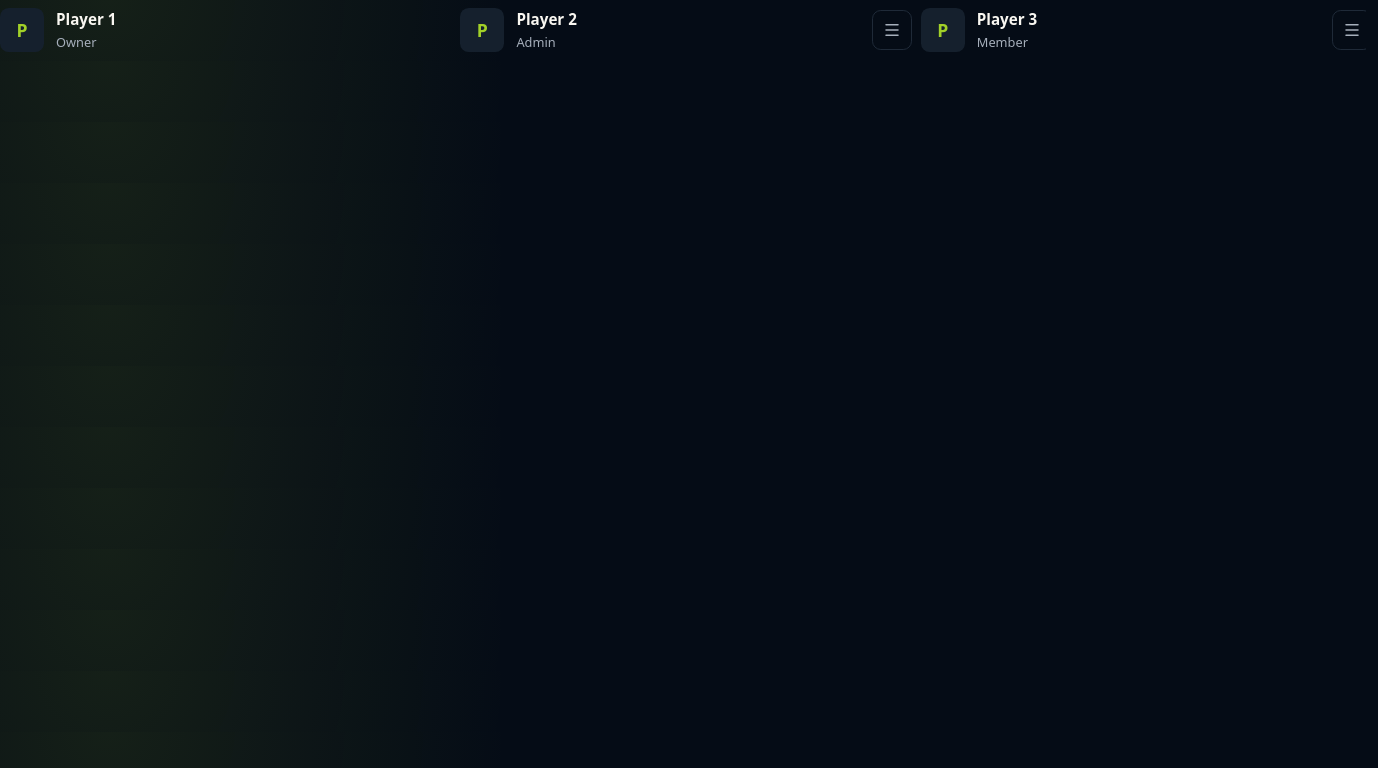
member menu › lets an owner make a member an admin
Click the button named "Options for Player 3". click: (1349, 30)
box: [1332,10,1366,50]
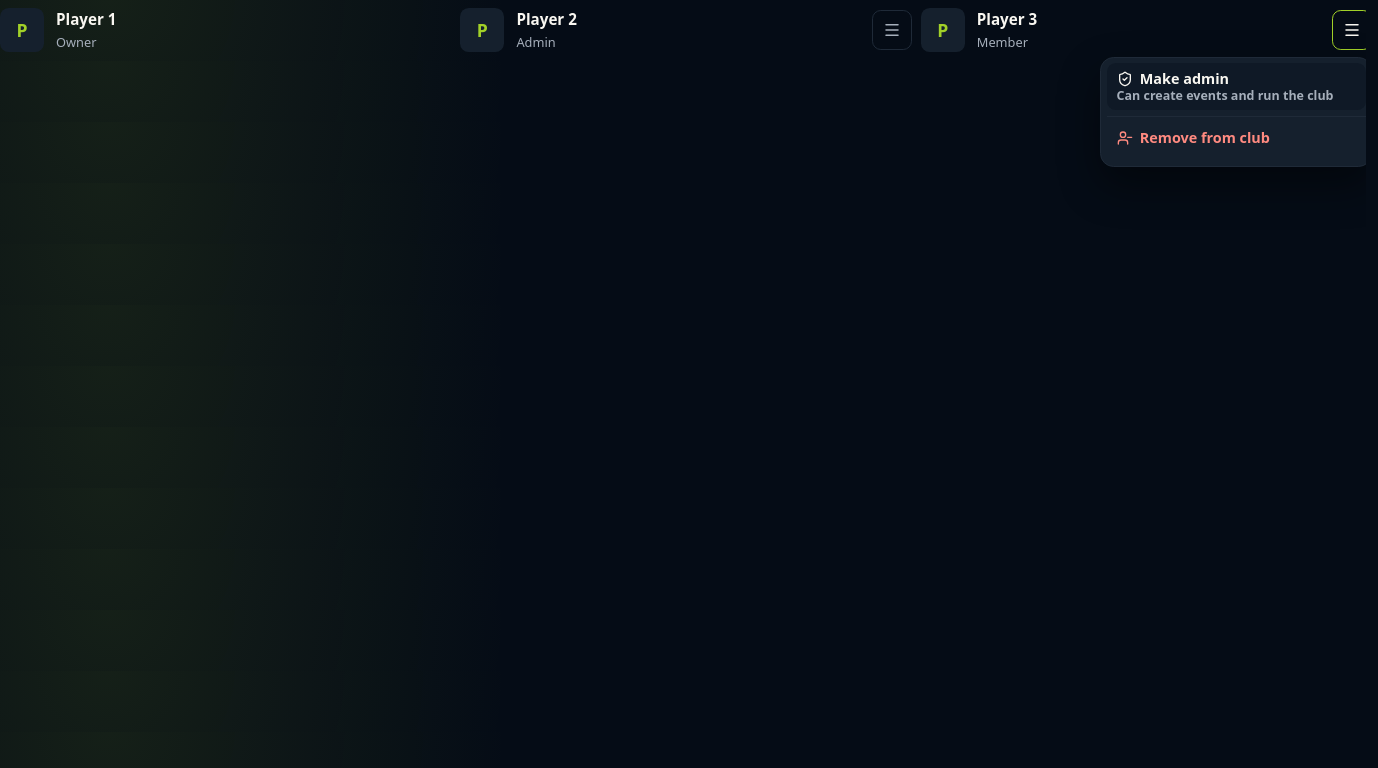
Now the menu items read "Make adminCan create events and run the club", "Remove from club", in this order
Click the menu item "Make admin Can create events and run the club". click: (1236, 87)
box: [1107,64,1366,110]
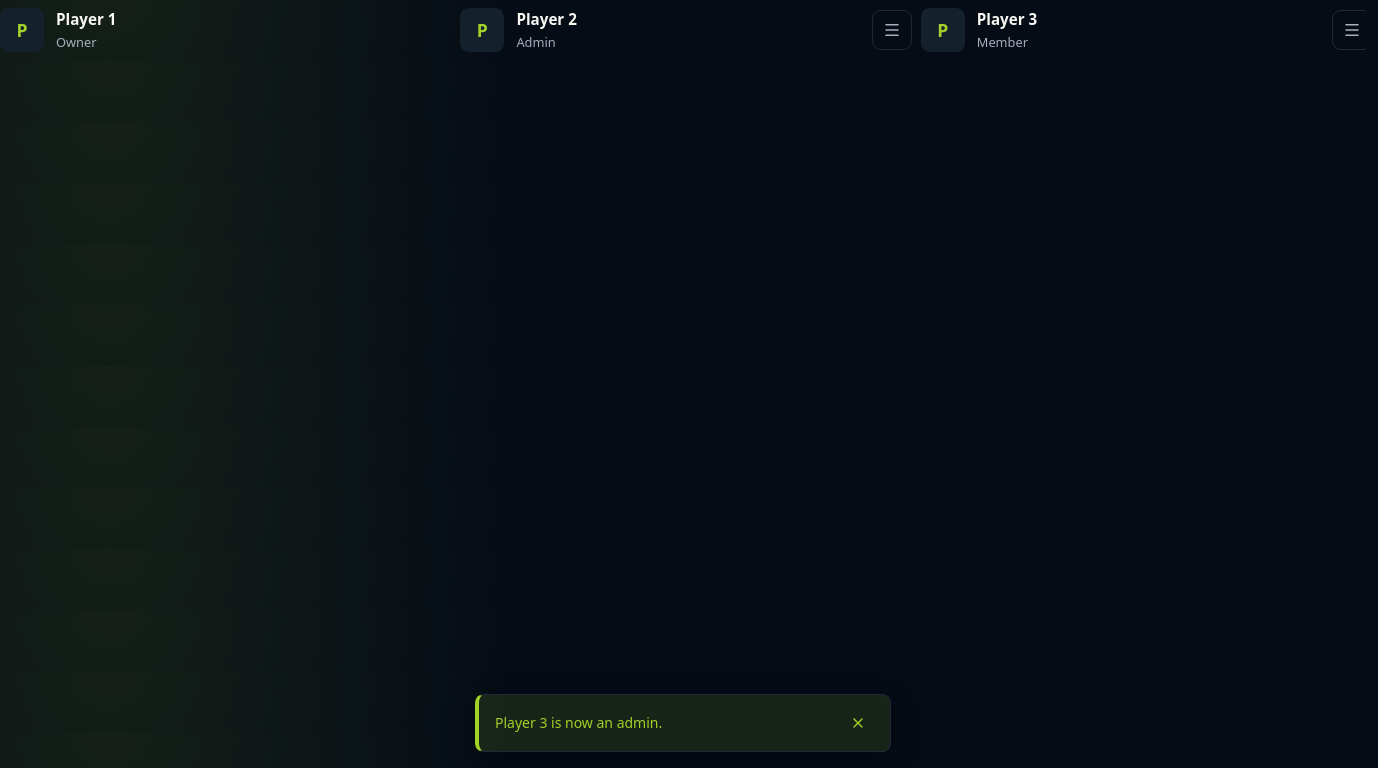
Now the message reads "Player 3 is now an admin.", box [495,713,662,732]
